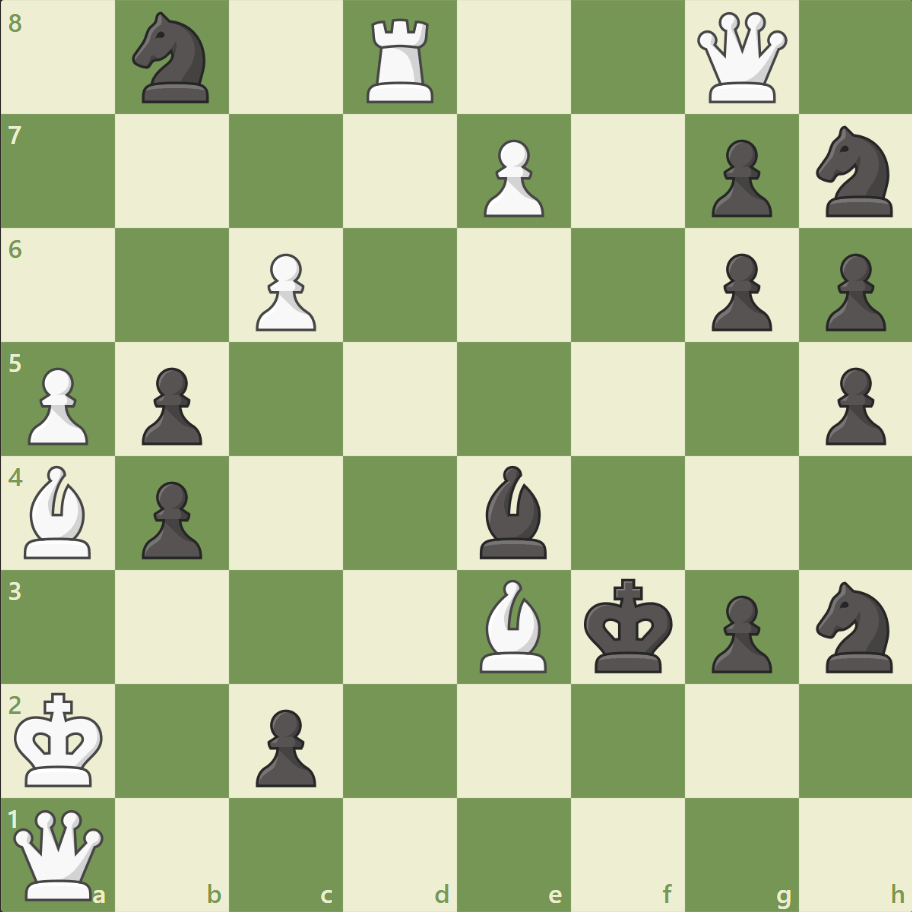B: (17, 460, 101, 563), (471, 574, 555, 676)
K: (11, 685, 111, 793)
P: (474, 132, 549, 223), (247, 246, 322, 337), (20, 359, 95, 450)
Q: (691, 9, 790, 108), (10, 804, 109, 903)
R: (360, 12, 442, 109)
b: (471, 460, 555, 563)
k: (579, 571, 679, 679)
n: (124, 7, 222, 110), (806, 121, 903, 223), (806, 575, 903, 677)
p: (701, 132, 776, 223), (701, 246, 776, 337), (133, 359, 208, 450), (133, 473, 208, 564), (701, 586, 776, 677), (247, 700, 322, 791), (815, 246, 889, 337), (815, 359, 889, 450)
